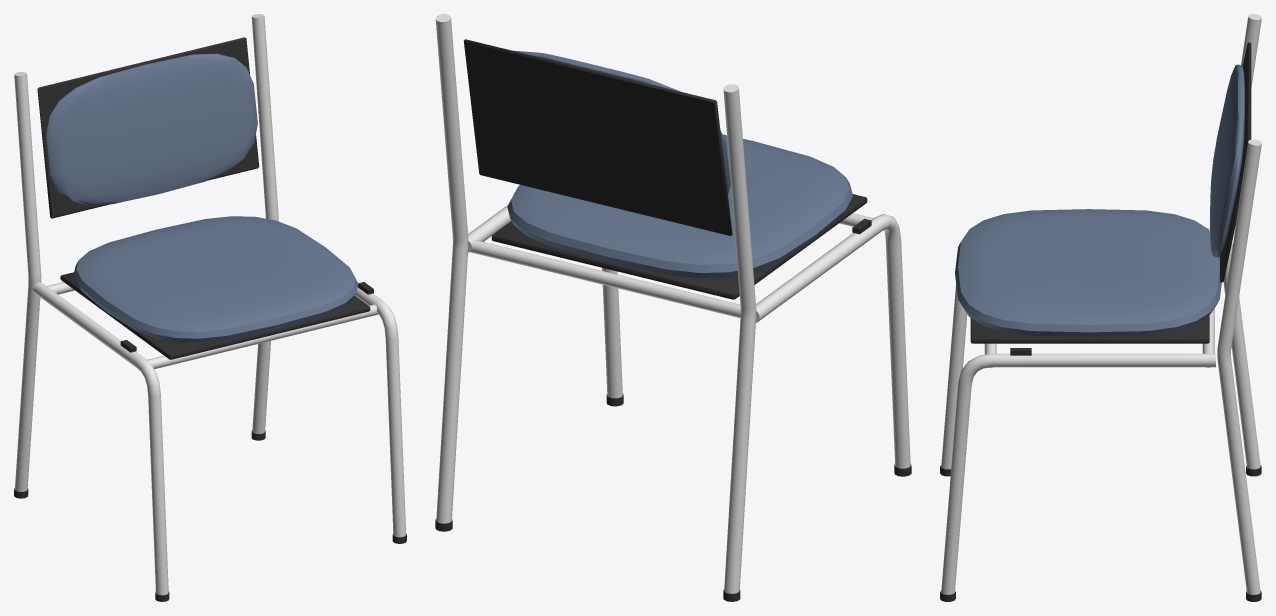
Rendered from Kit_StackChair.fbx.
3 renders of one model, left to right at view 1: azimuth 30°, elevation 25°; view 2: azimuth 150°, elevation 25°; view 3: azimuth 270°, elevation 25°, orthographic. The views are drawn at different scales.
Parts seen in each view (by area): view 1: Kit_StackChair_LOD0; view 2: Kit_StackChair_LOD0; view 3: Kit_StackChair_LOD0.
Boxes of the visible parts, bbox=[...] form: Kit_StackChair_LOD0: bbox=[14, 14, 406, 601]; Kit_StackChair_LOD0: bbox=[435, 14, 911, 601]; Kit_StackChair_LOD0: bbox=[940, 14, 1261, 601].
Size of what is drawn, in the model's own units: 0.4958 by 0.8014 by 0.5112.
